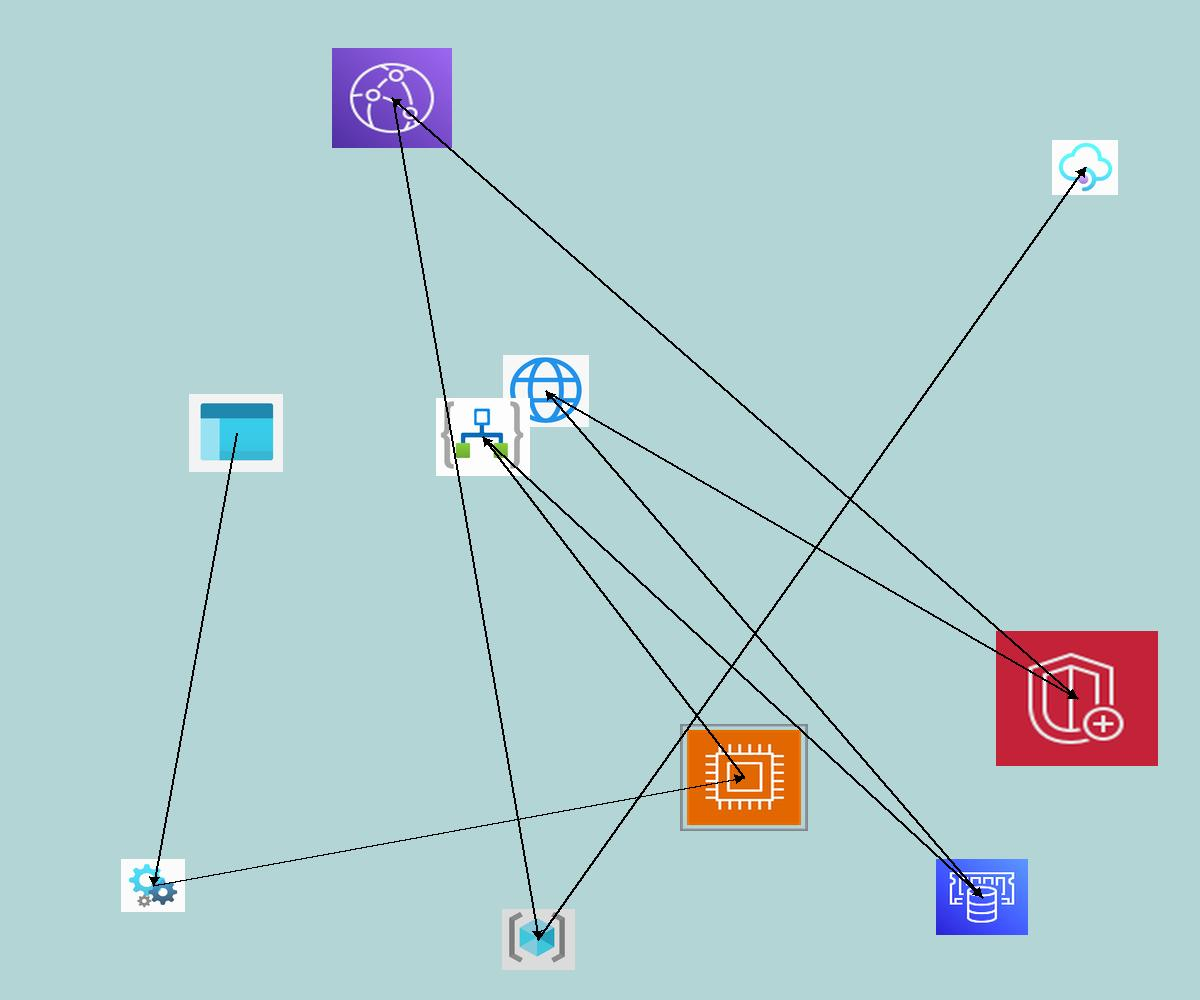AWS-Category_Compute: (680, 724, 808, 831)
AWS-CloudFront: (332, 48, 452, 148)
AWS-ElastiCache: (936, 859, 1028, 935)
AWS-Shield: (996, 631, 1158, 766)
Azure_api: (121, 859, 185, 912)
Azure_api_gateway: (1052, 140, 1118, 195)
Azure_http: (503, 355, 589, 427)
Azure_integration-204-Logic-Apps: (436, 398, 530, 476)
Azure_management-portal: (189, 394, 283, 472)
Azure_resource_group: (502, 909, 575, 970)
